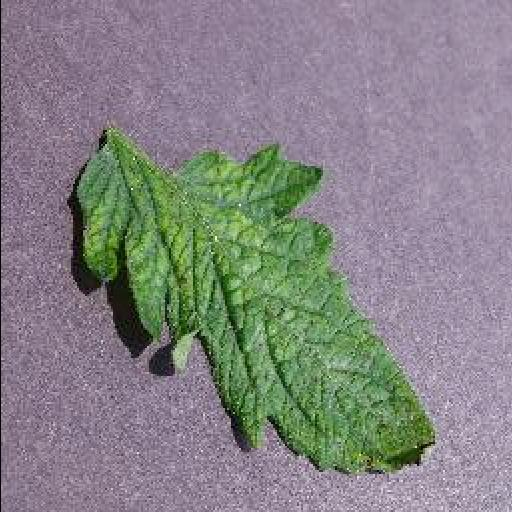Mosaic Virus: (78, 145, 440, 475)
